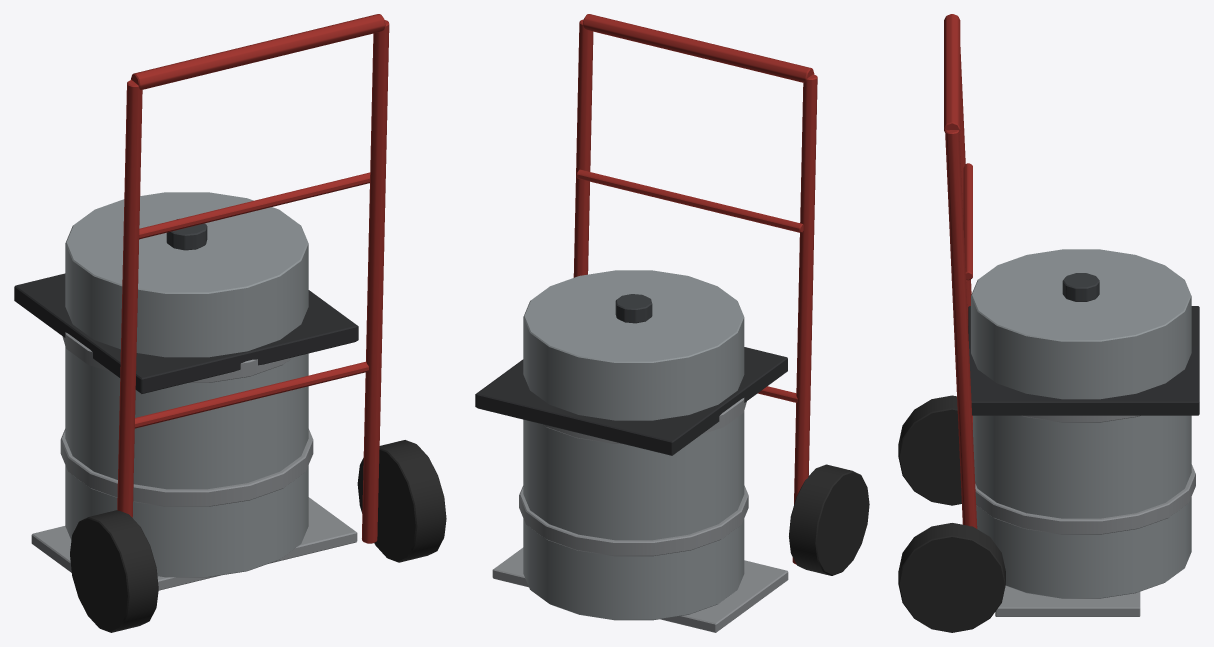
Rendered from prop_ah_keg_trolley.glb.
The picture shows the model from 3 angles, left to right: view 1: azimuth 30°, elevation 25°; view 2: azimuth 150°, elevation 25°; view 3: azimuth 270°, elevation 25°; orthographic projection. The views are drawn at different scales.
Parts seen in each view (by area): view 1: Body; view 2: Body; view 3: Body.
Boxes of the visible parts, x1,y1,x2,y2 form: Body: (14, 14, 446, 632); Body: (475, 14, 869, 632); Body: (898, 14, 1199, 632).
Bounding box in the file's own units: 0.62 × 1.02 × 0.56.
